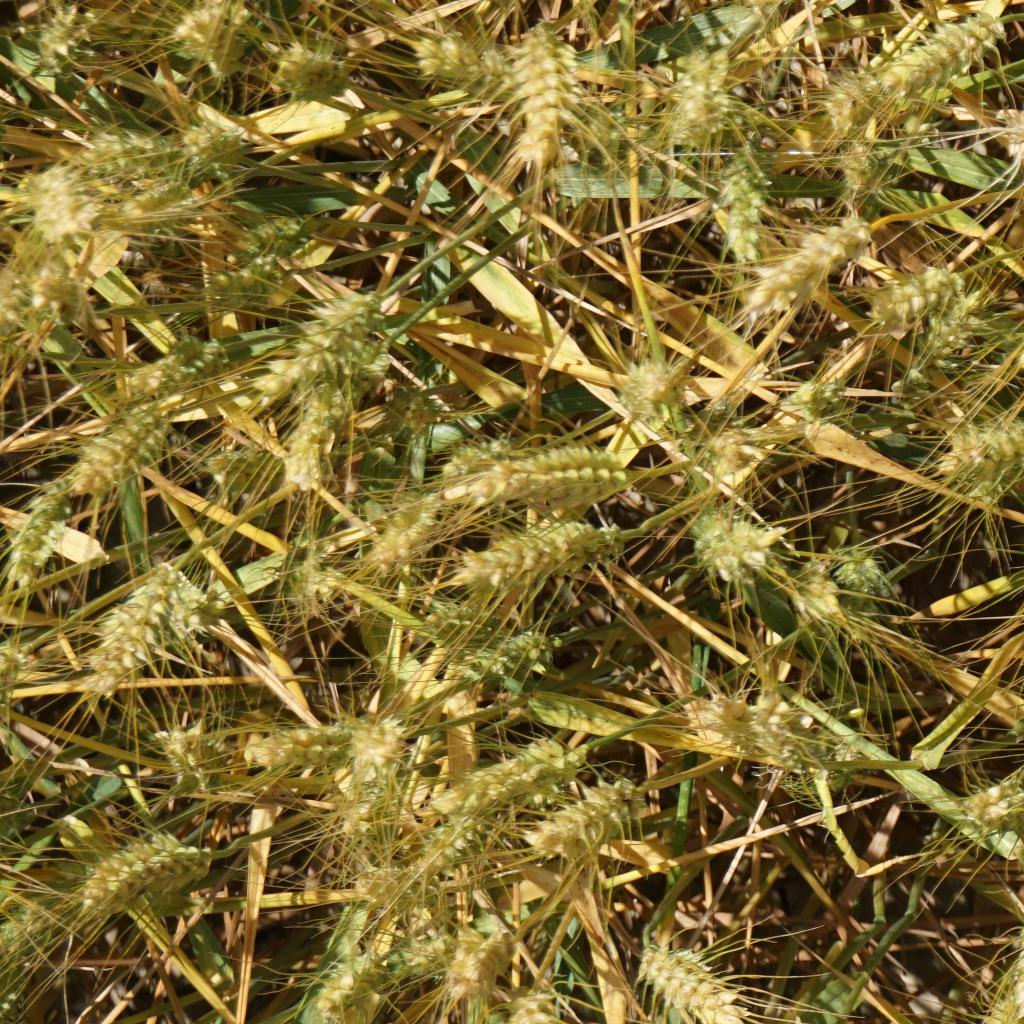0-0: (420, 728, 593, 813), (256, 282, 399, 377), (858, 14, 999, 107), (73, 820, 225, 902), (531, 771, 654, 871), (737, 224, 868, 311), (63, 411, 209, 489), (462, 440, 638, 503), (505, 17, 579, 161), (441, 516, 608, 578), (698, 144, 784, 263), (678, 481, 771, 588), (761, 694, 852, 795), (376, 811, 512, 878), (686, 671, 784, 763), (676, 397, 774, 483), (84, 585, 171, 680), (3, 491, 90, 585), (0, 232, 93, 316), (635, 948, 754, 1013), (104, 175, 217, 240), (252, 718, 364, 780), (286, 364, 349, 471), (361, 501, 442, 584), (948, 396, 1024, 483), (865, 257, 959, 326), (252, 36, 359, 96), (414, 13, 499, 87), (28, 0, 126, 64), (667, 48, 731, 142), (609, 354, 706, 416), (473, 623, 563, 688), (158, 560, 238, 633), (305, 948, 409, 1004), (27, 150, 105, 224), (150, 329, 243, 391), (953, 768, 1024, 848), (340, 708, 413, 784), (0, 885, 65, 970), (171, 0, 252, 67), (374, 374, 455, 440), (337, 795, 414, 859), (823, 131, 894, 200), (203, 246, 296, 297), (350, 849, 424, 913), (438, 939, 524, 989), (79, 115, 158, 169), (920, 296, 987, 359), (203, 442, 284, 494), (405, 923, 480, 979), (566, 99, 634, 160), (179, 121, 249, 180), (787, 374, 855, 432), (825, 69, 882, 138), (278, 532, 331, 606), (989, 908, 1024, 1017), (241, 210, 313, 262), (418, 598, 487, 649), (790, 566, 847, 626), (158, 733, 207, 799), (831, 555, 889, 601), (985, 108, 1024, 164)
